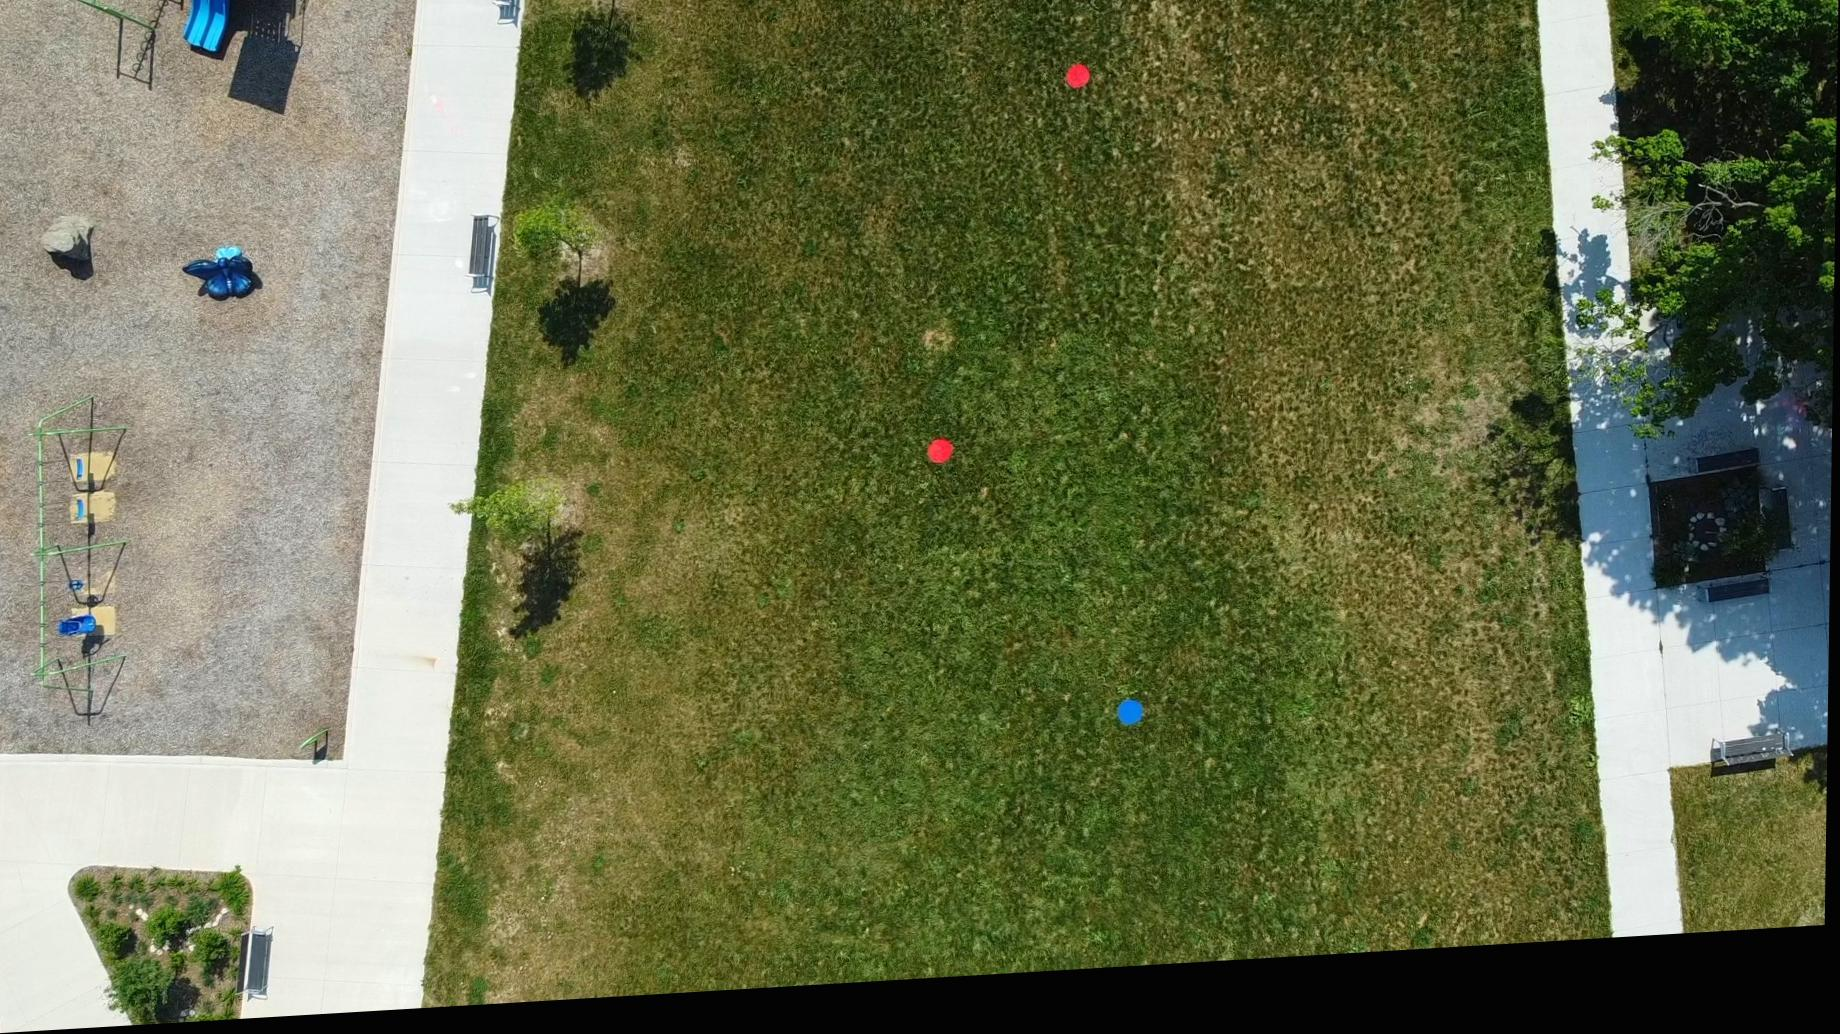Blue: (1118, 713, 1147, 742)
Red: (1065, 76, 1092, 104), (929, 450, 955, 477)
